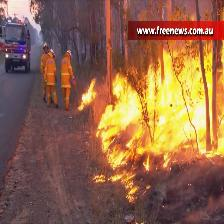fire: (92, 48, 224, 203), (79, 77, 97, 112)
